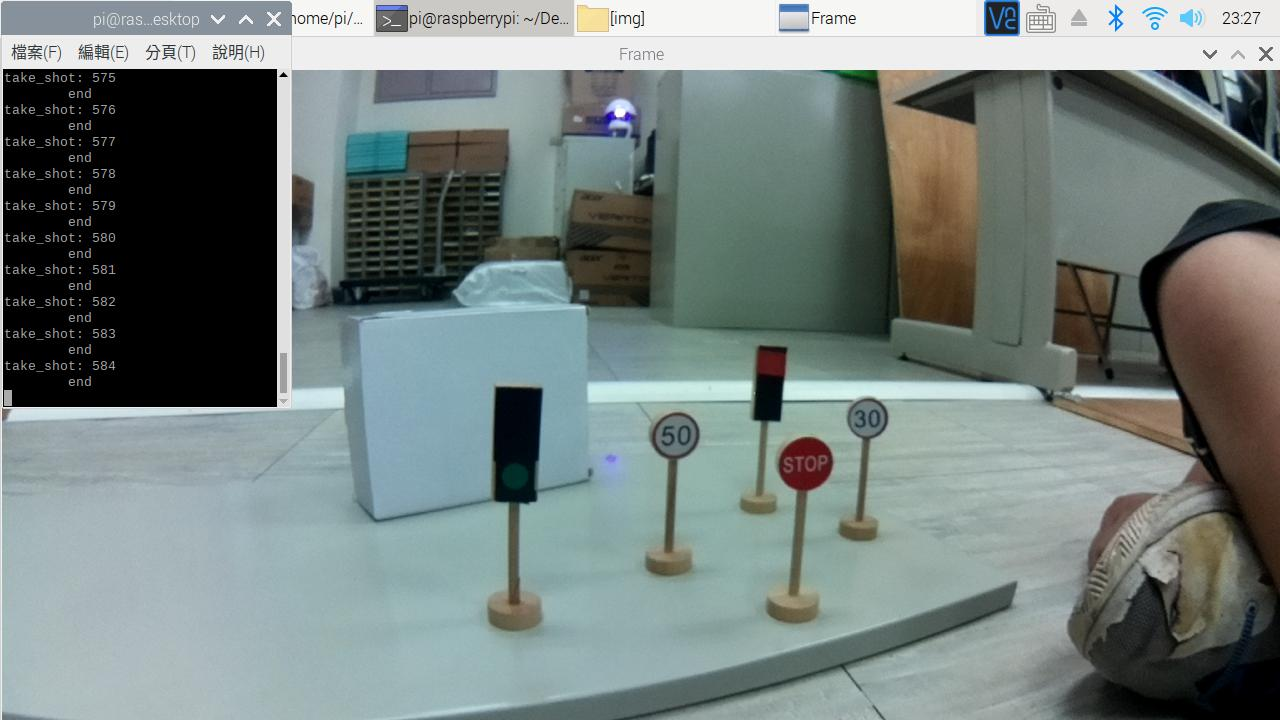Green: (478, 379, 553, 509)
Red: (742, 339, 795, 427)
Speed30: (837, 388, 898, 452)
Speed50: (644, 404, 707, 470)
Stop: (768, 434, 834, 503)
